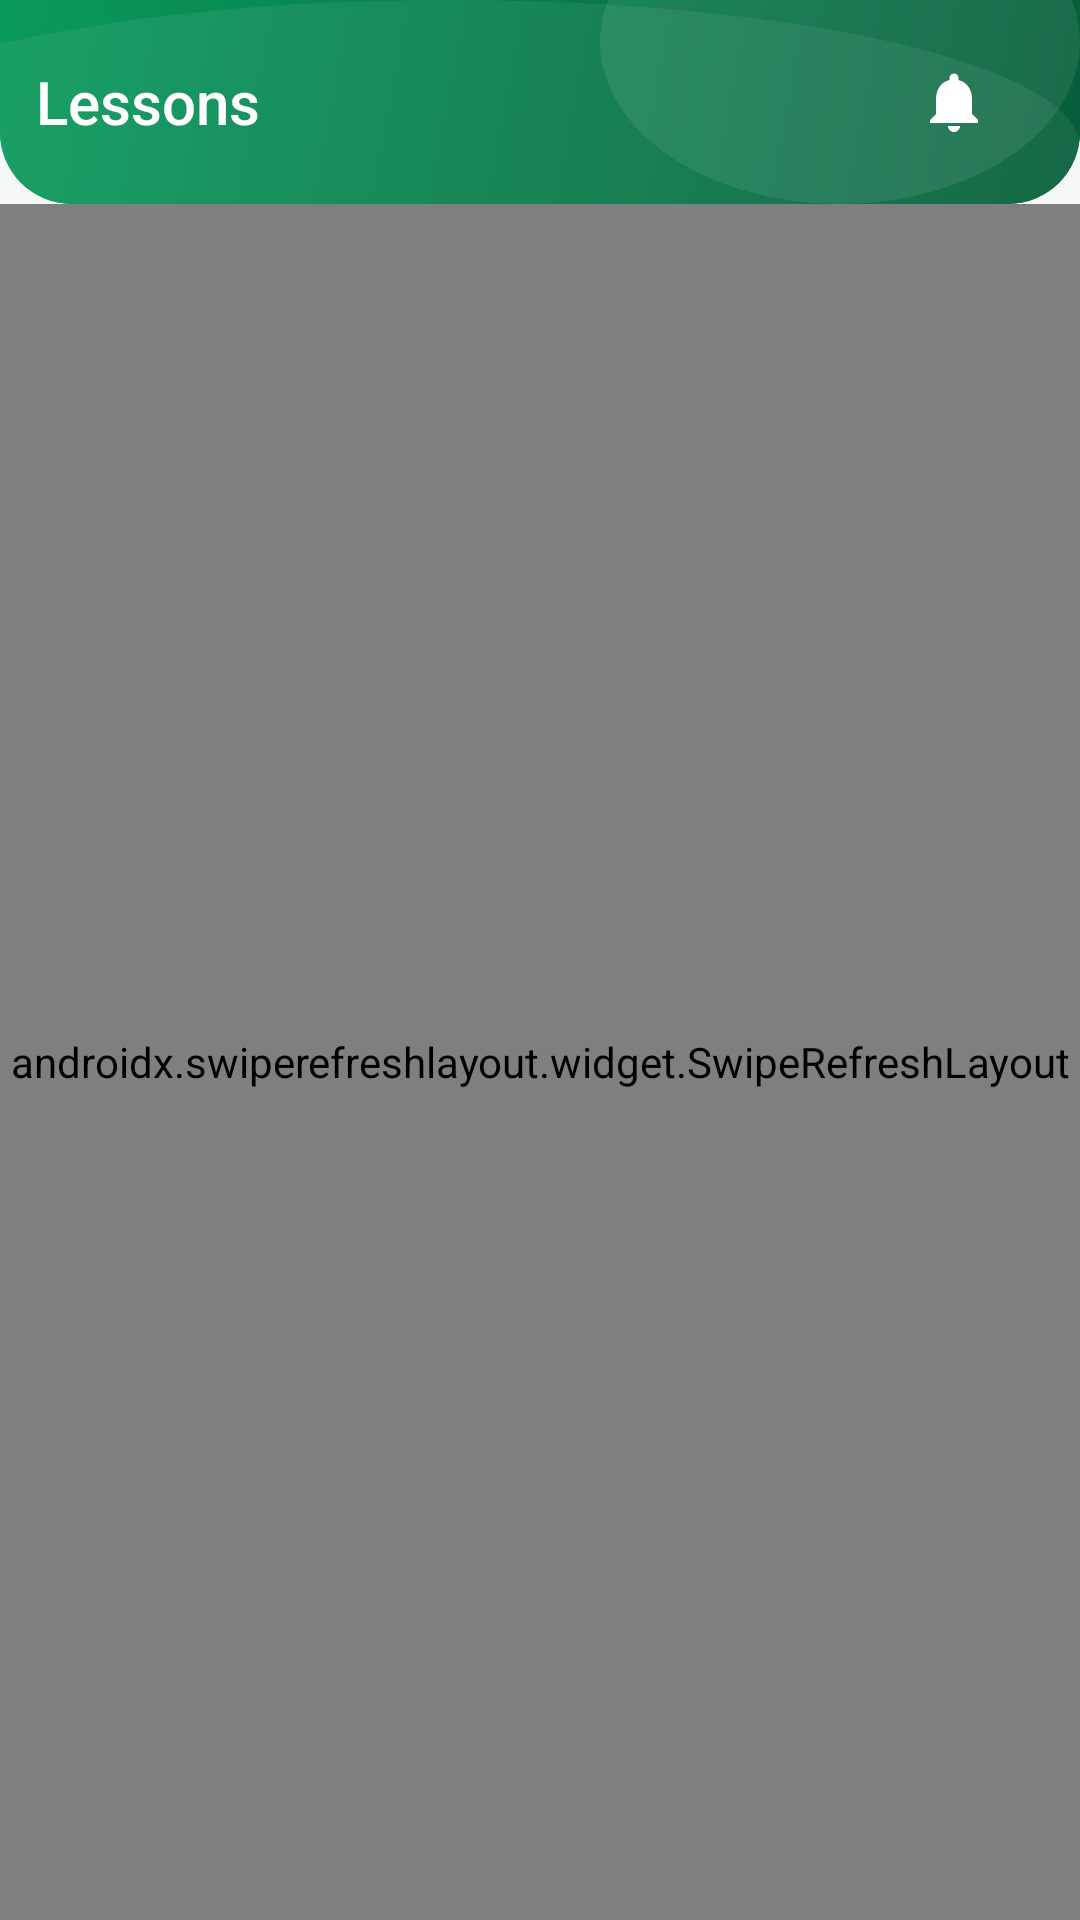

Icons on this 1080×1920 Android screen, each with its box as bbox=[x1, y1, x2, y2]:
Notifications: bbox=[930, 73, 978, 132]
